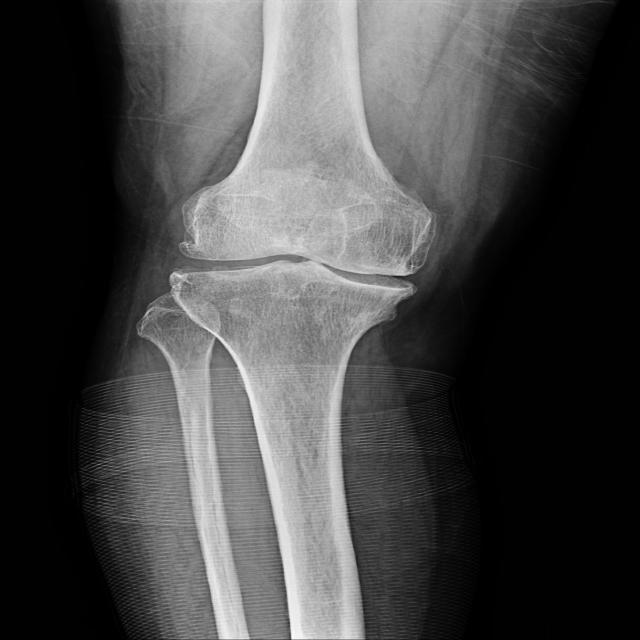osteo: (171, 173, 433, 320)
